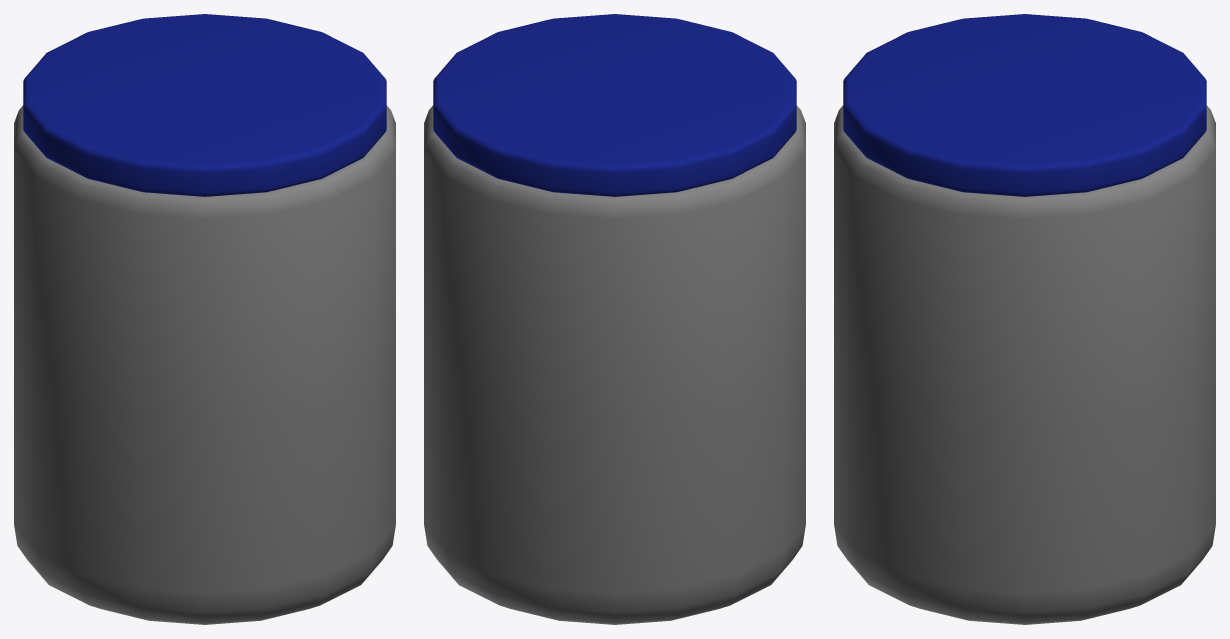
Rendered from poitconfiture.fbx.
3 views of the same model, side by side, from view 1: azimuth 30°, elevation 25°; view 2: azimuth 150°, elevation 25°; view 3: azimuth 270°, elevation 25° (orthographic).
Parts seen in each view (by area): view 1: pot001, Object009; view 2: pot001, Object009; view 3: pot001, Object009.
Boxes of the visible parts, left/top/right/bottom form: pot001: left=14, top=105, right=395, bottom=624; Object009: left=23, top=14, right=386, bottom=196; pot001: left=424, top=105, right=805, bottom=624; Object009: left=433, top=14, right=796, bottom=196; pot001: left=834, top=105, right=1215, bottom=624; Object009: left=843, top=14, right=1206, bottom=196.
Bounding box in the file's own units: 20 × 26.69 × 19.7.
